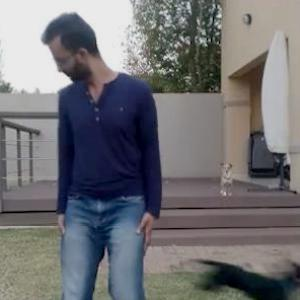follow: (132, 0, 299, 299), (45, 4, 158, 290)
